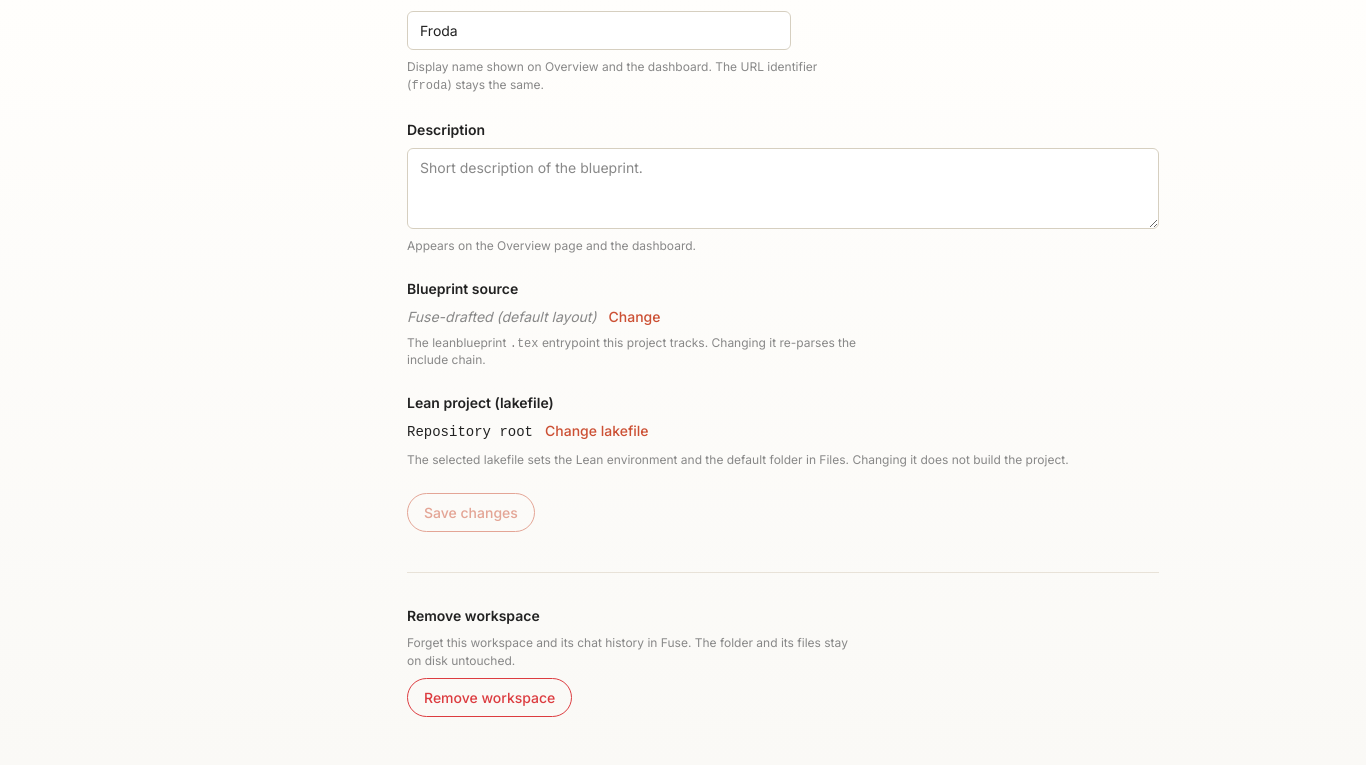
Test: SettingsMode › remove workspace › hides other failure details behind a generic message
(page scrolled)
Click the button "Remove workspace" at [490, 698], box top-left (407, 678), bottom-right (572, 717)
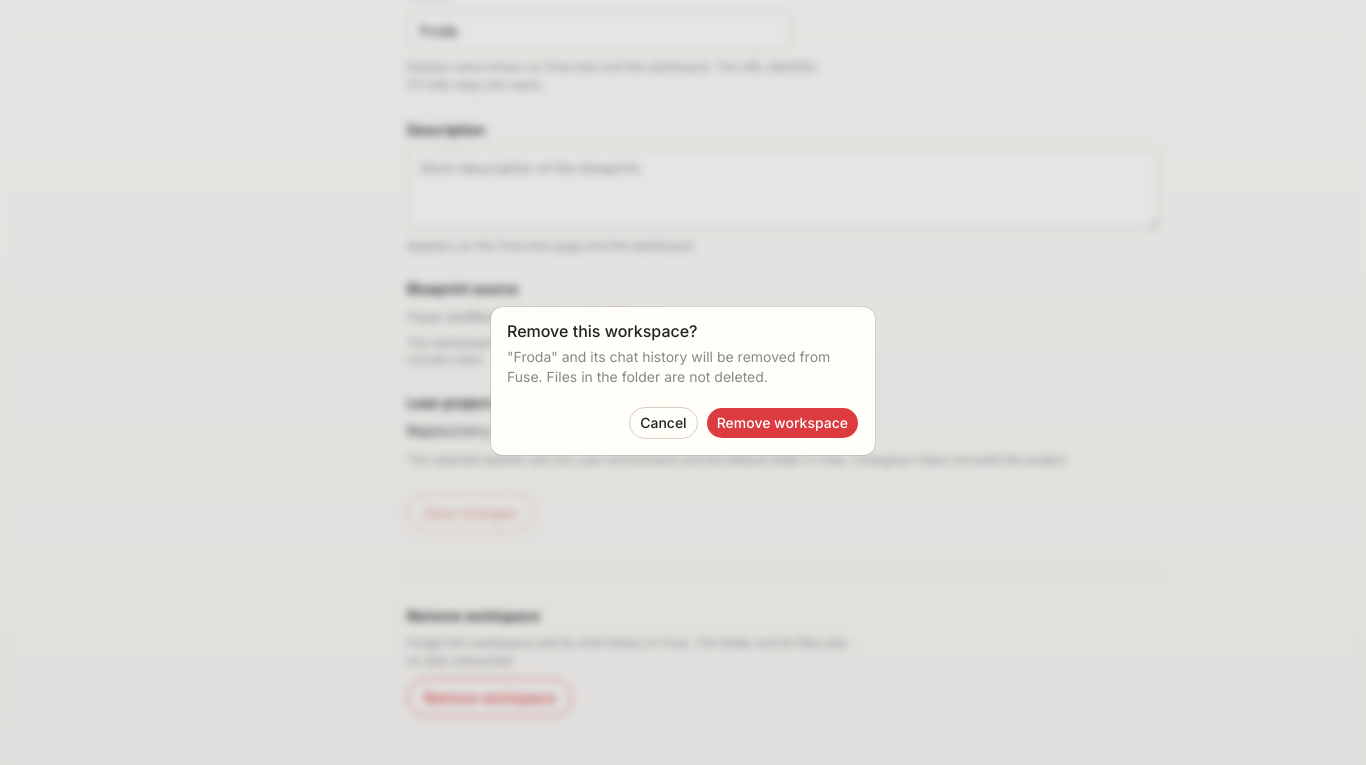
Click the button "Remove workspace" at [782, 423], box top-left (706, 407), bottom-right (859, 439)
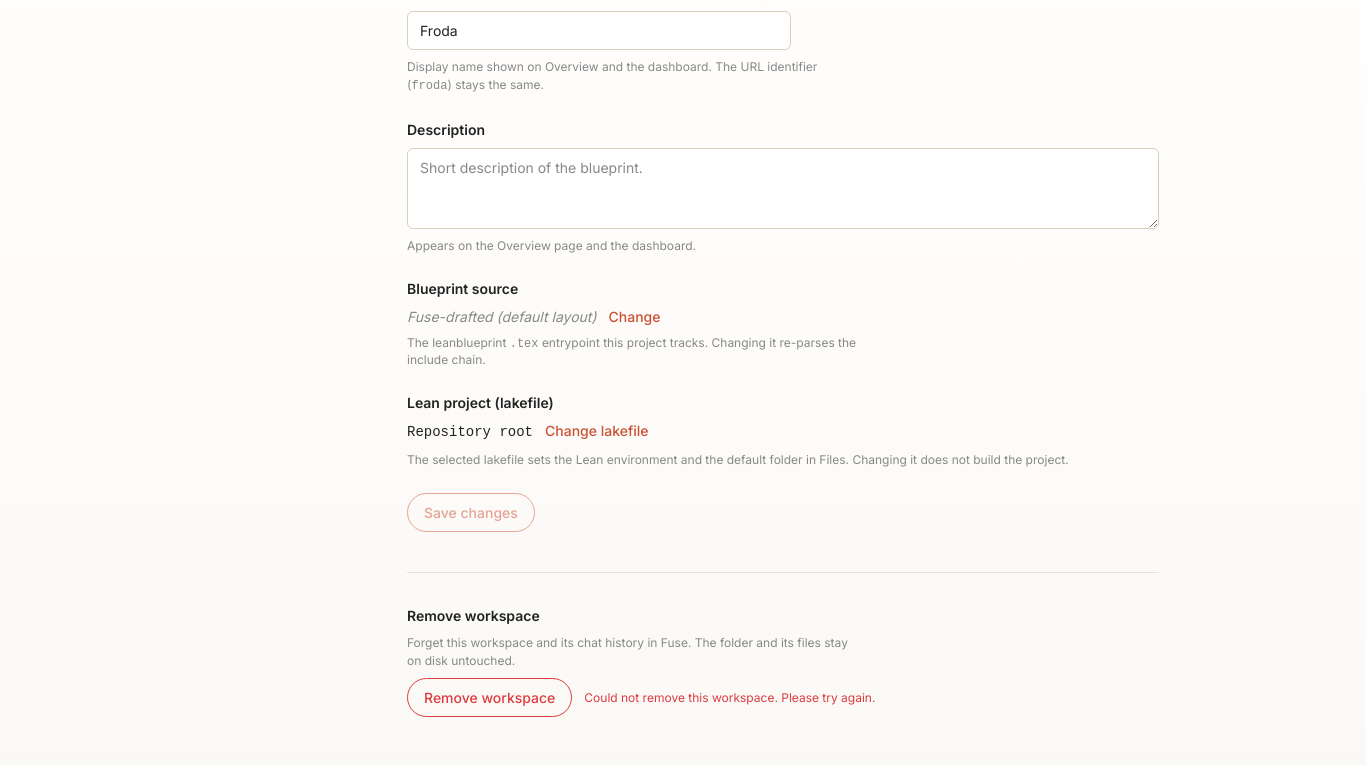
Check: the text "Could not remove this workspace. Please try again." is shown, box top-left (584, 690), bottom-right (875, 706)
